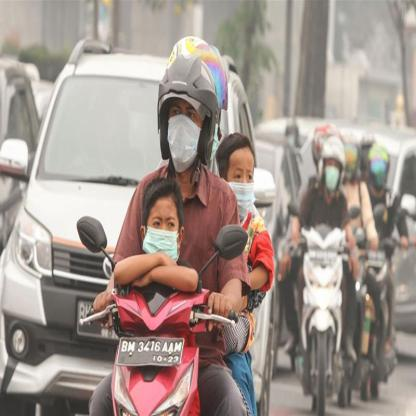Wearing_Mask: (165, 101, 201, 172), (142, 210, 178, 262), (227, 163, 254, 220), (323, 158, 339, 192)
